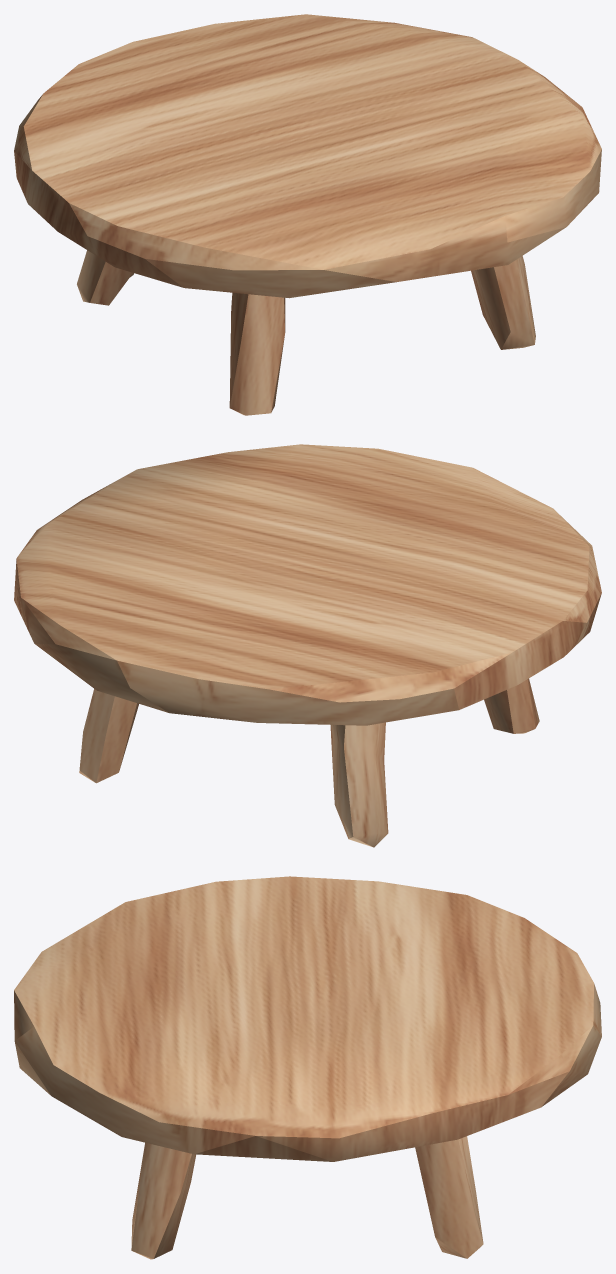
File: jarvi-coffee-table.glb
The picture shows the model from 3 angles, top to bottom: view 1: azimuth 30°, elevation 25°; view 2: azimuth 150°, elevation 25°; view 3: azimuth 270°, elevation 25°; orthographic projection.
Visible parts, largest first — view 1: geometry_0; view 2: geometry_0; view 3: geometry_0.
Part boxes in pixels (box(x1,y1,x2,y2)): geometry_0: box(14, 14, 601, 415); geometry_0: box(14, 444, 601, 847); geometry_0: box(14, 876, 601, 1259).
Bounding box in the file's own units: 1 × 0.3648 × 0.9903.
1 material, 1 textured.
